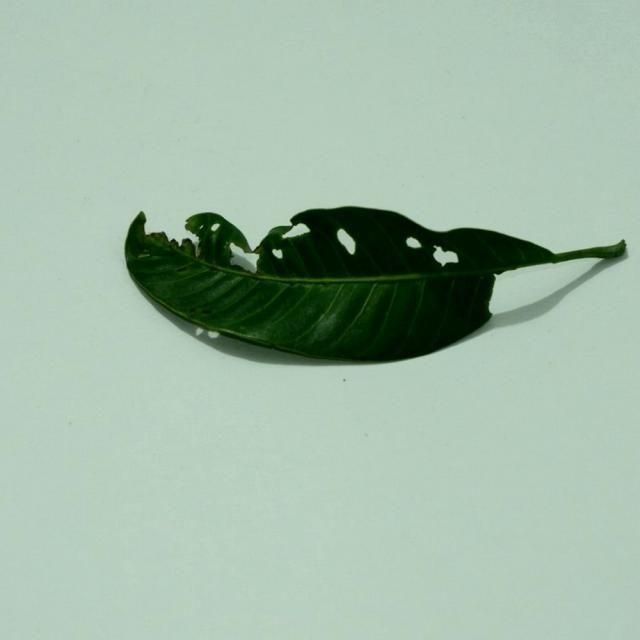Anthracnose: (170, 237, 246, 279), (228, 241, 266, 284), (228, 245, 258, 271), (336, 230, 360, 260), (335, 229, 357, 255), (431, 246, 456, 265), (285, 222, 310, 240), (405, 237, 422, 249), (227, 242, 241, 256), (406, 237, 421, 249), (272, 246, 283, 259), (210, 223, 220, 233), (207, 331, 219, 339), (229, 256, 236, 265)
Mango: (123, 207, 628, 366)
